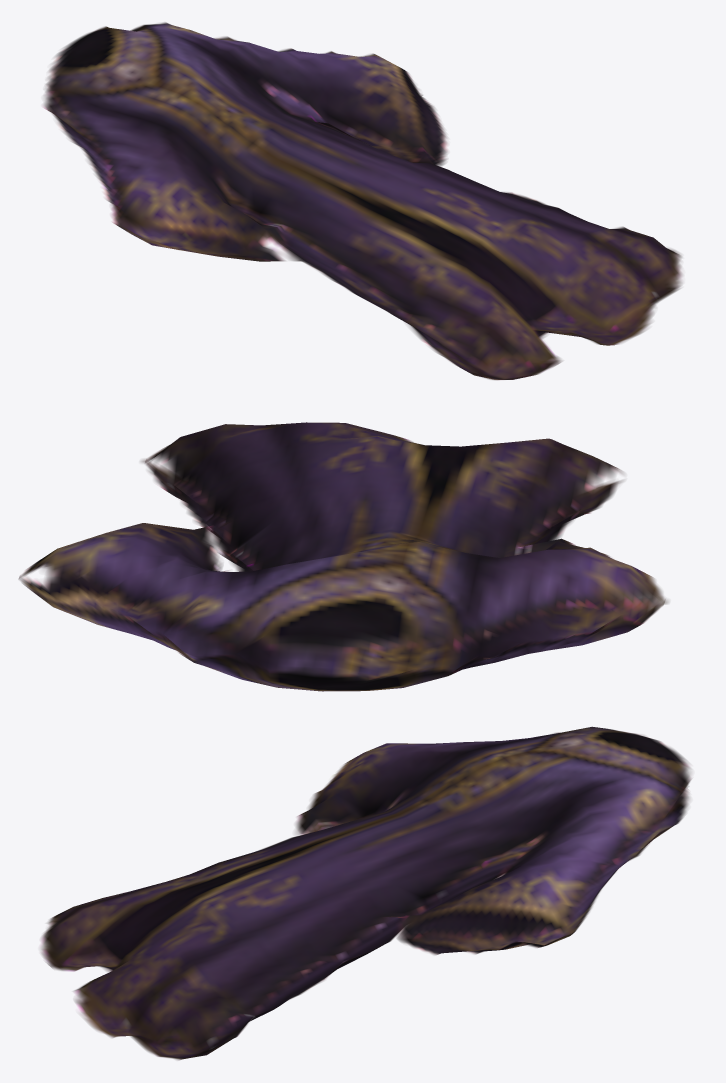
The model's file is drop_robe.glb.
3 views of the same model, one above another, from view 1: azimuth 30°, elevation 25°; view 2: azimuth 150°, elevation 25°; view 3: azimuth 270°, elevation 25° (orthographic). The views are drawn at different scales.
Visible parts, largest first — view 1: drop_robe; view 2: drop_robe; view 3: drop_robe.
Part boxes in pixels (bbox=[...]): drop_robe: bbox=[43, 22, 682, 380]; drop_robe: bbox=[19, 422, 668, 691]; drop_robe: bbox=[41, 726, 691, 1060].
Size of the model in its own units: 0.4356 by 0.1341 by 0.5087.
1 material, 1 textured.
